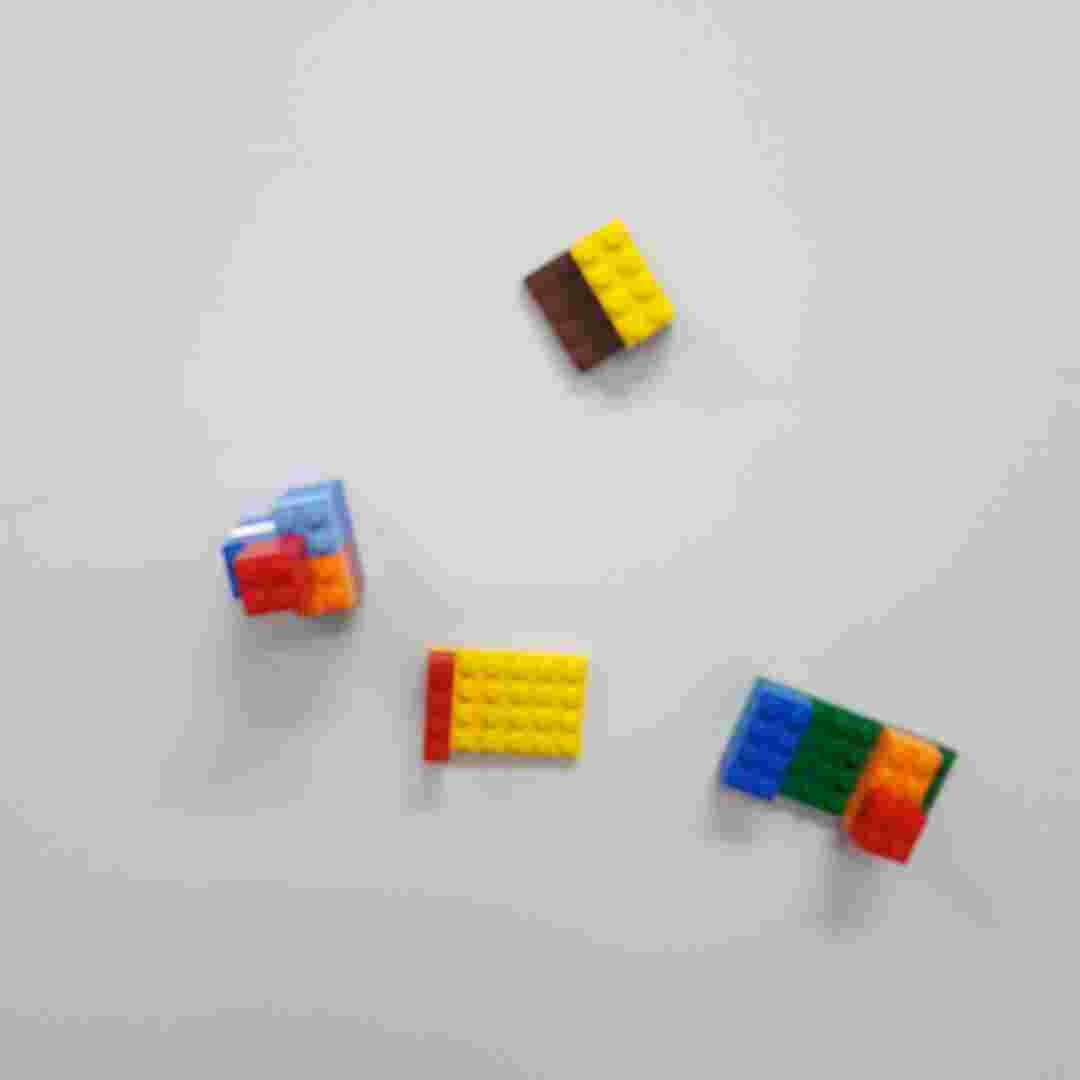LEGO: (710, 677, 959, 863), (521, 216, 679, 375), (221, 475, 375, 622), (420, 641, 590, 765)
